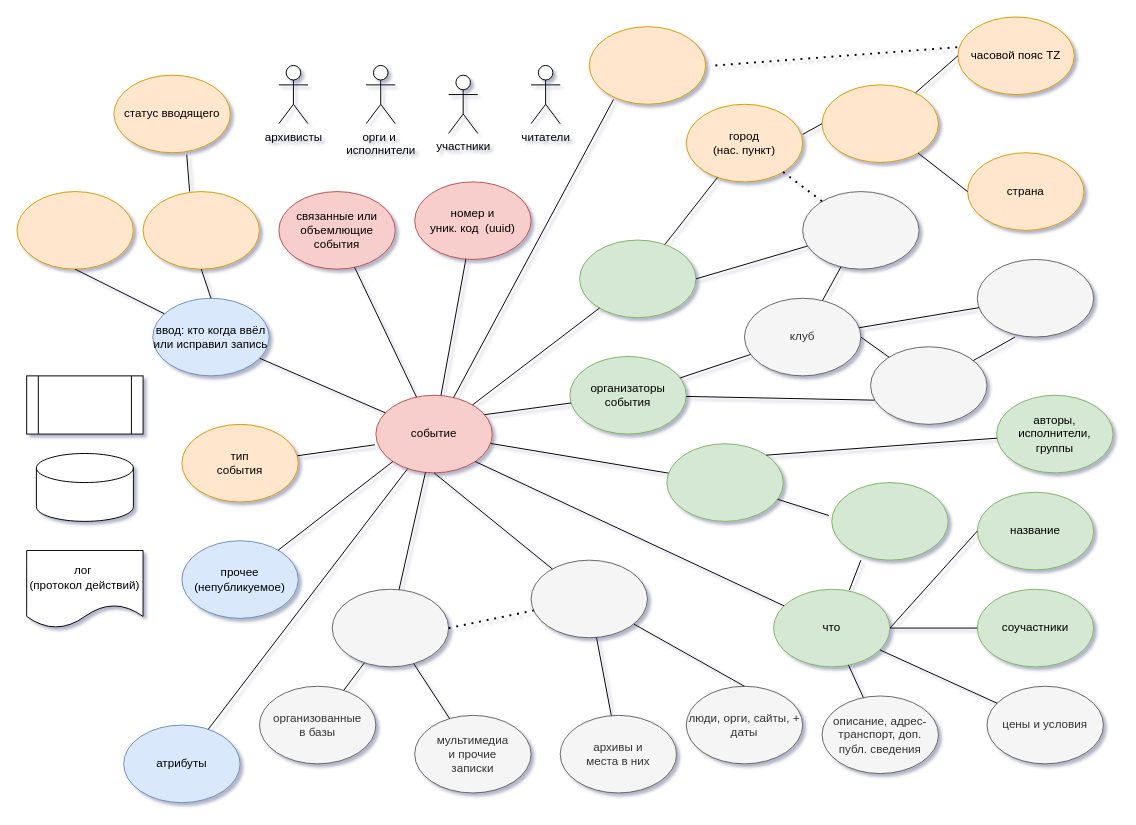
This 1136x825 diagram has some shape labels left out. Here are the shapes that lost their labels. From the top down, the centre of each, then its label:
At (647,65): "дата + время + TZ".
At (879,123): "регион".
At (74,230): "время (история) правки".
At (200,230): "кто ввёл (исправил)".
At (860,230): "местный адрес".
At (637,278): "место события".
At (1035,298): "атрибуты оргов".
At (84,404): "веб-сайт (сервер)".
At (928,385): "орги".
At (84,487): "база данных".
At (724,482): "кто или сложное событие".
At (889,521): "сложные события".
At (588,598): "источники".
At (390,627): "материалы до/ записи/ после/ связанные".
